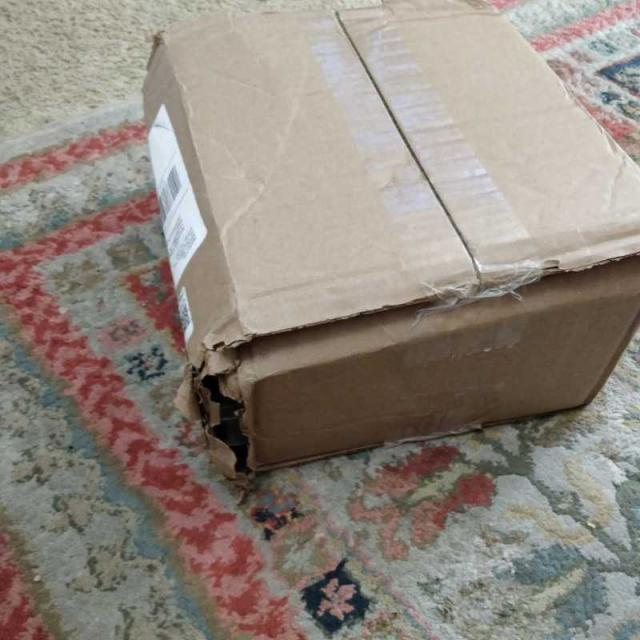damaged: (193, 338, 261, 472)
